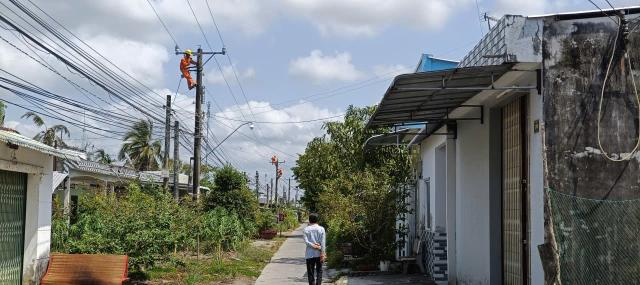harness: (177, 66, 191, 72)
helmet: (183, 48, 193, 58)
shoes: (191, 82, 199, 87), (187, 86, 193, 91)
